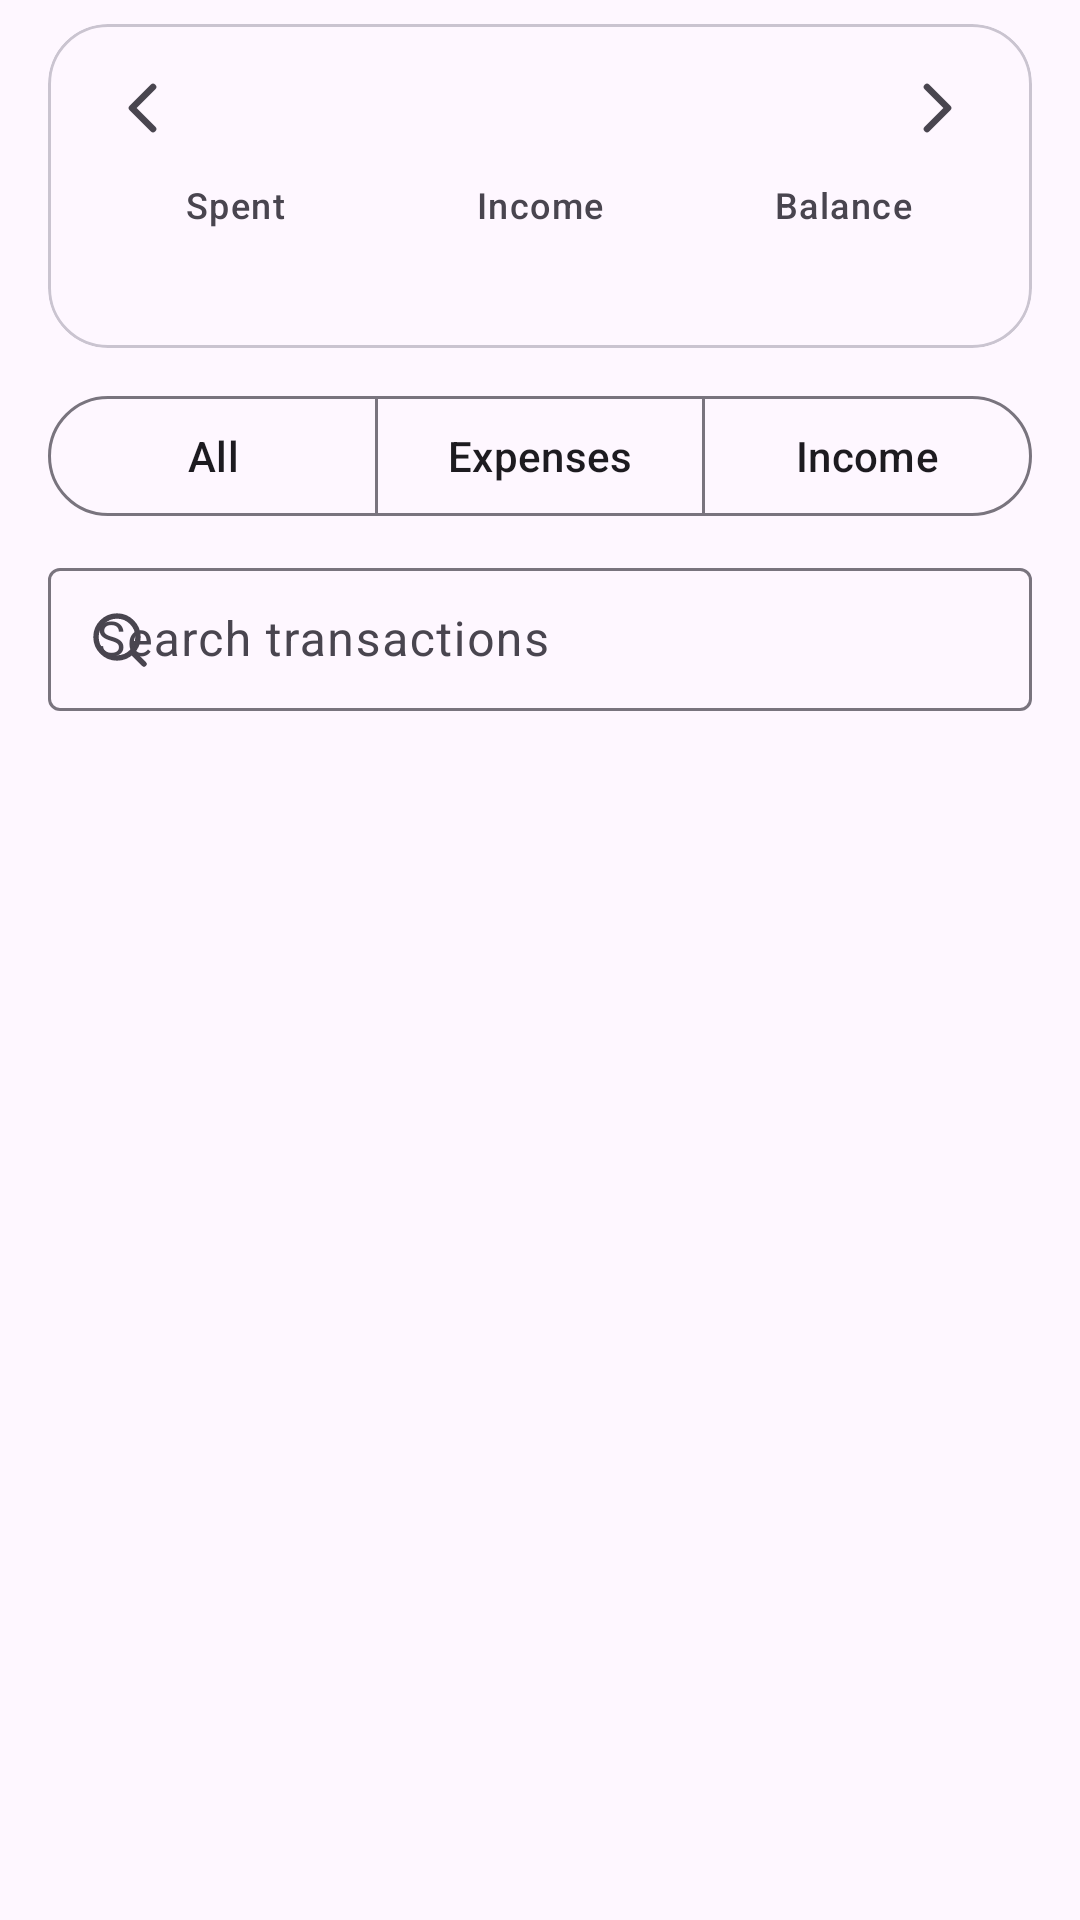

Named icons in this screenshot (1080×1920) and their centers, point (x, y):
Next month: point (937, 108)
Previous month: point (142, 108)
